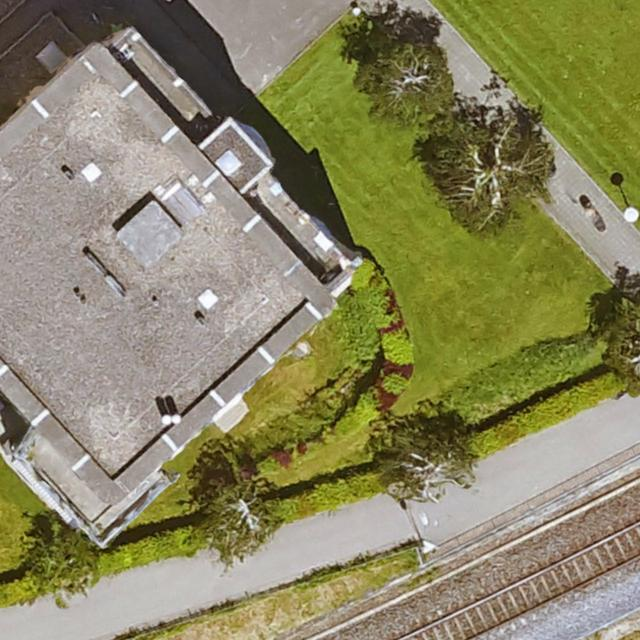tree: (420, 104, 558, 230), (376, 402, 474, 498), (195, 473, 274, 567), (356, 45, 456, 117), (21, 520, 100, 597), (607, 286, 640, 394)
